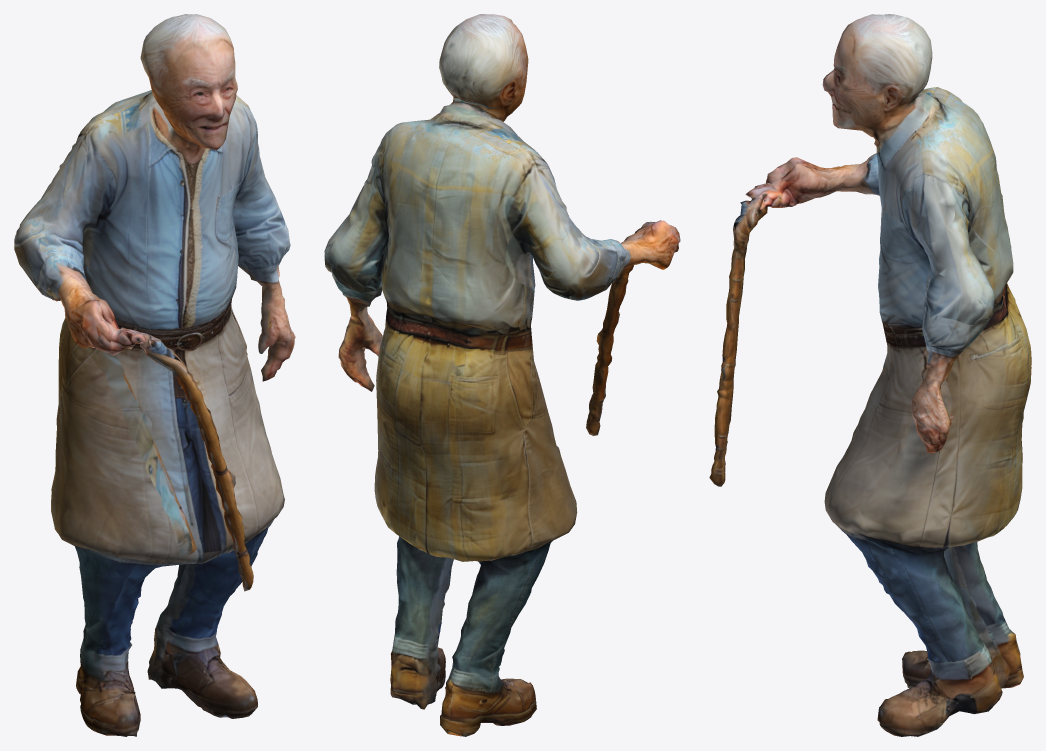
Rendered from Kakek.glb.
3 renders of one model, left to right at view 1: azimuth 30°, elevation 25°; view 2: azimuth 150°, elevation 25°; view 3: azimuth 270°, elevation 25°, orthographic. The views are drawn at different scales.
Bounding box in the file's own units: 0.4971 × 1.2 × 0.5072.
1 material, 1 textured.
